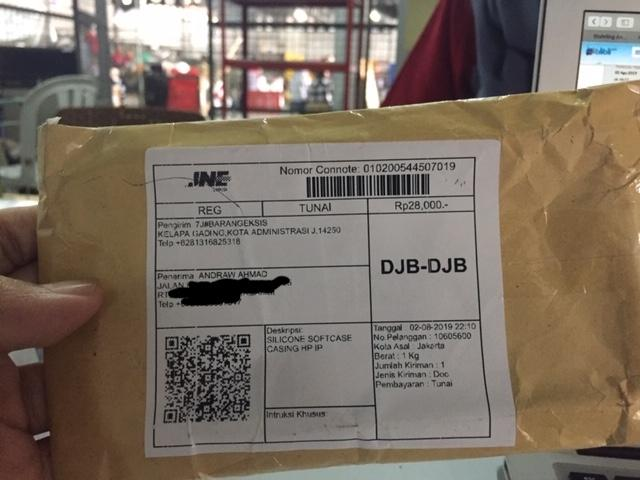undamaged: (32, 69, 638, 478)
